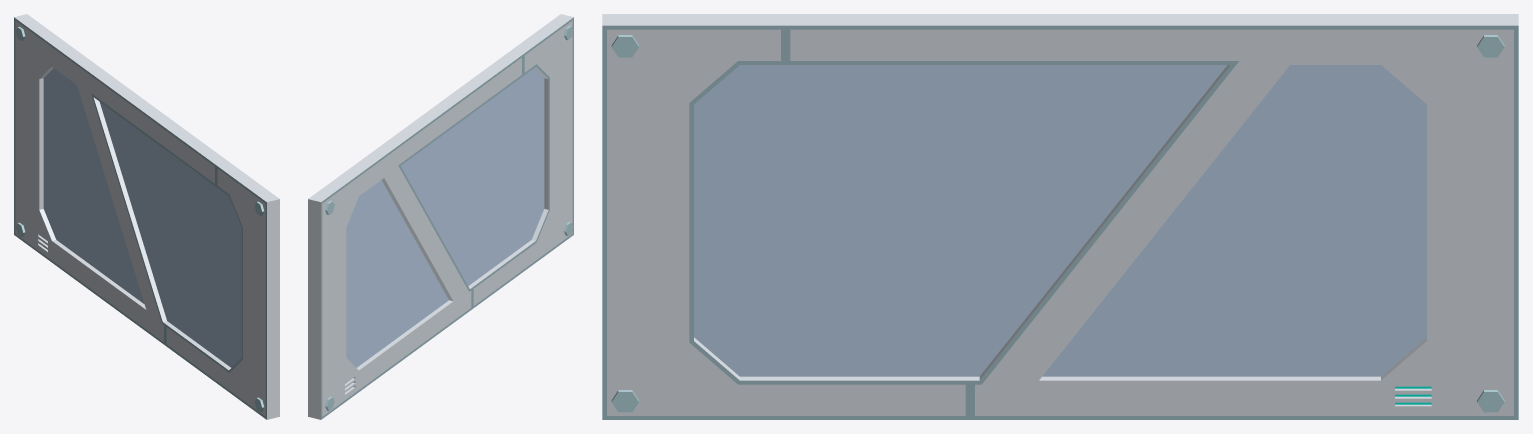
Rendered from window-03.fbx.
3 renders of one model, left to right at view 1: azimuth 30°, elevation 25°; view 2: azimuth 150°, elevation 25°; view 3: azimuth 270°, elevation 25°, orthographic. The views are drawn at different scales.
Visible parts, largest first — view 1: window-03; view 2: window-03; view 3: window-03.
Boxes of the visible parts, x1=… form: window-03: x1=14, y1=14, x2=279, y2=419; window-03: x1=308, y1=14, x2=573, y2=419; window-03: x1=602, y1=14, x2=1518, y2=419.
Bounding box in the file's own units: 8 × 95 × 200.
